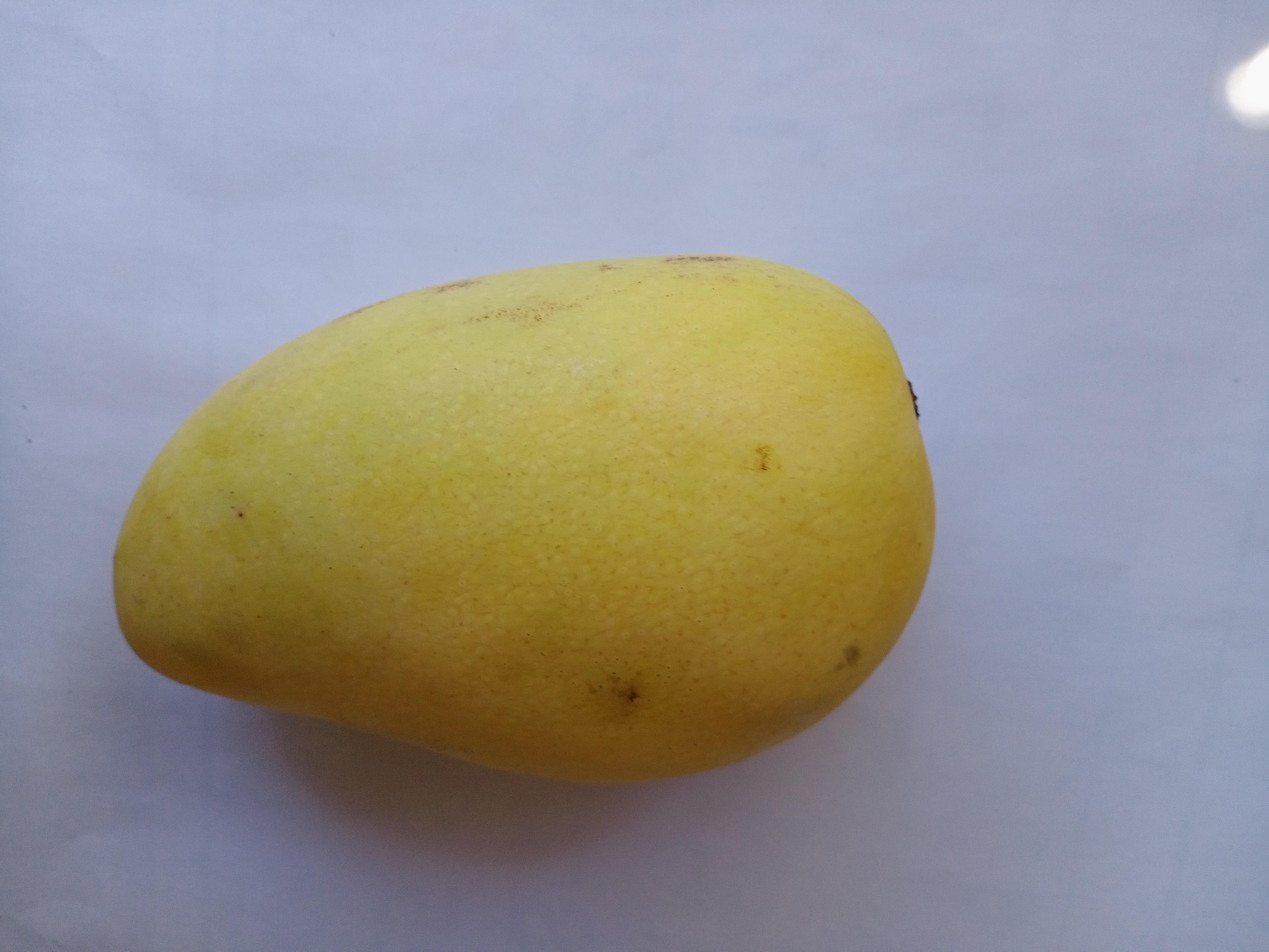Mango Ripe: (89, 196, 1011, 835)
